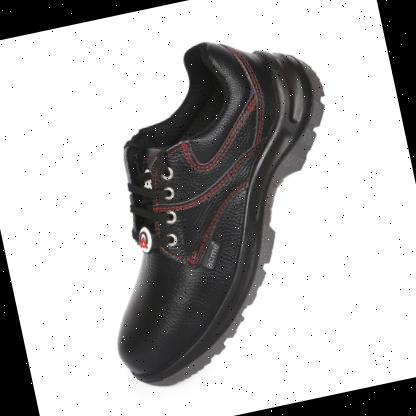bota: (53, 13, 383, 400)
